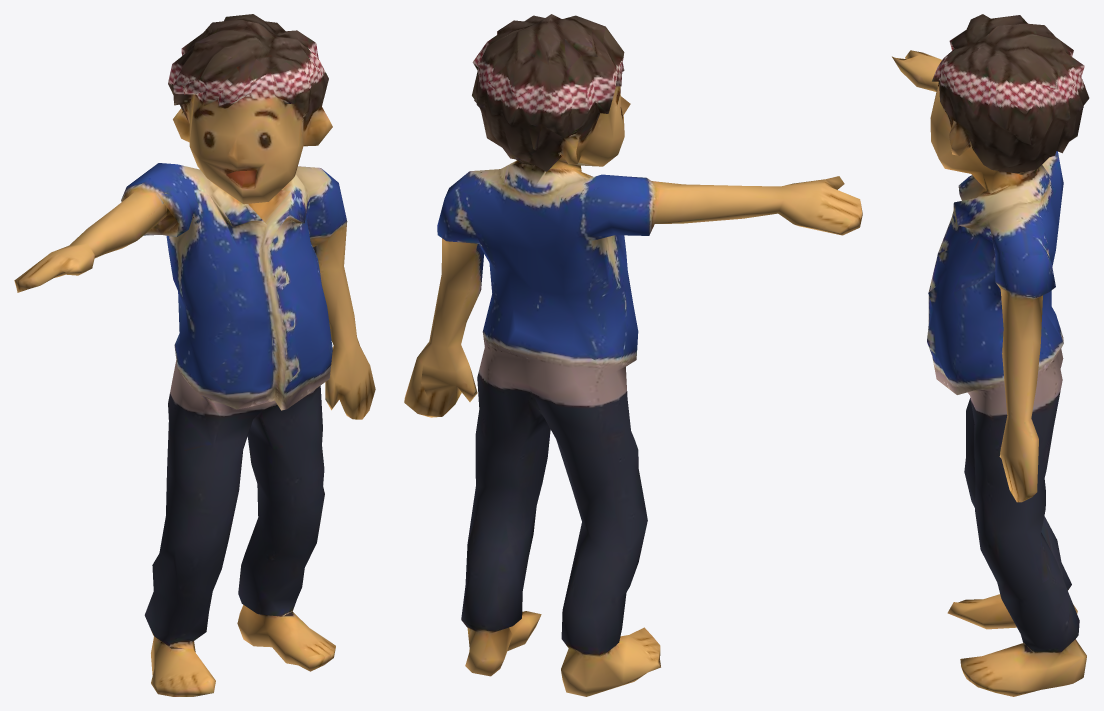
The model's file is toad-pose-man-point-moral.glb.
3 views of the same model, side by side, from view 1: azimuth 30°, elevation 25°; view 2: azimuth 150°, elevation 25°; view 3: azimuth 270°, elevation 25° (orthographic).
Parts seen in each view (by area): view 1: q-man-point; view 2: q-man-point; view 3: q-man-point.
Boxes of the visible parts, left/top/right/bottom form: q-man-point: left=14, top=14, right=375, bottom=696; q-man-point: left=404, top=14, right=862, bottom=696; q-man-point: left=892, top=14, right=1089, bottom=696.
Size of the model in its own units: 0.6331 by 0.9654 by 0.2699.
1 material, 1 textured.
